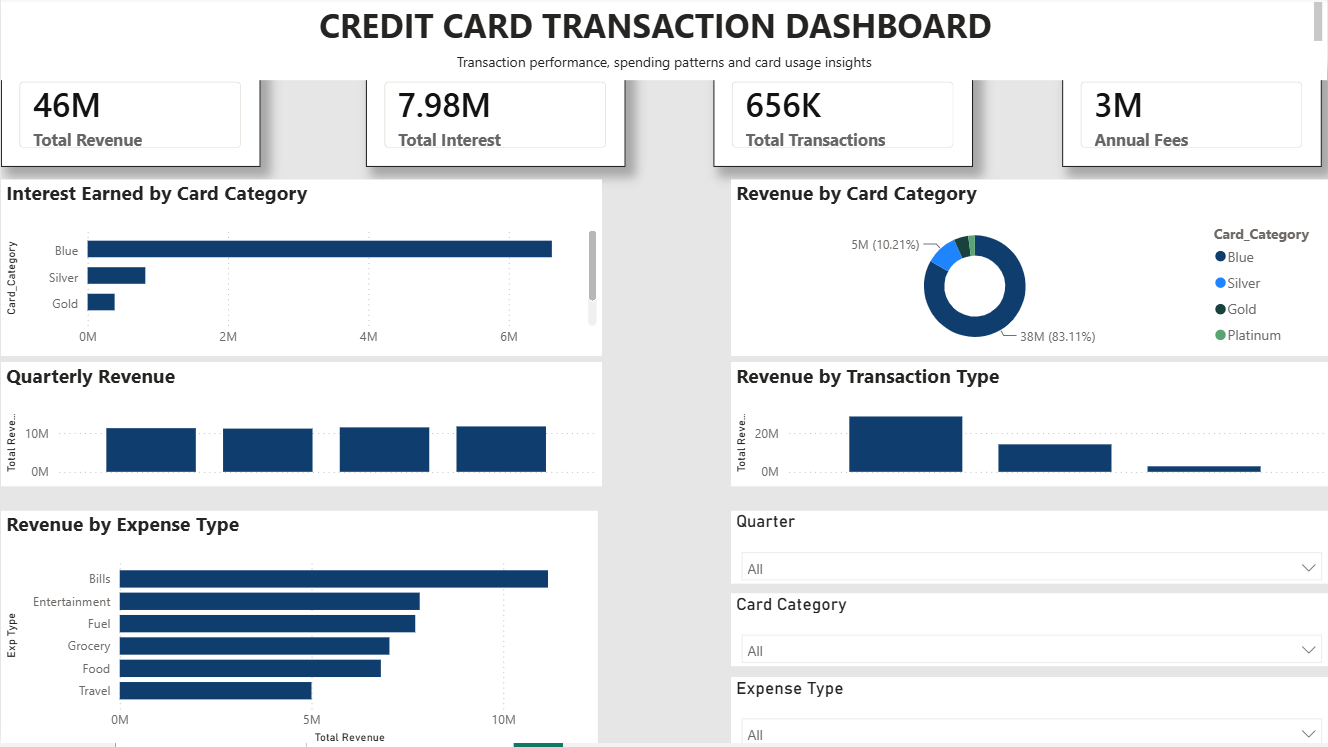

What the dashboard file says about the page in this screenshot:
{"tool":"powerbi","page":{"name":"Transaction Dashboard","canvas":[1280,720],"ordinal":1},"visuals":[{"type":"cardVisual","fields":{"Data":["Credit_Card_Final.Revenue"]},"box":[0,64,250,100],"z":0},{"type":"textbox","box":[0,0,1280,50],"z":1000},{"type":"cardVisual","fields":{"Data":["Credit_Card_Final.Interest"]},"box":[352,64,250,100],"z":2000},{"type":"cardVisual","fields":{"Data":["Credit_Card_Final.Transaction_Count"]},"box":[688,64,250,100],"z":3000},{"type":"cardVisual","fields":{"Data":["Sum(Credit_Card_Final.Annual_Fees)"]},"box":[1024,64,250,100],"z":4000},{"type":"clusteredBarChart","title":"Revenue by Expense Type","fields":{"Category":["Credit_Card_Final.Exp Type"],"Y":["Credit_Card_Final.Revenue"]},"box":[0,496,576,230],"z":5000},{"type":"donutChart","title":"Revenue by Card Category","fields":{"Category":["Credit_Card_Final.Card_Category"],"Y":["Credit_Card_Final.Revenue"]},"box":[704,176,580,170],"z":6000},{"type":"clusteredColumnChart","title":"Quarterly Revenue","fields":{"Y":["Credit_Card_Final.Revenue"],"Category":["Quarter_Table.Quarter"]},"box":[0,352,580,120],"z":7000},{"type":"clusteredColumnChart","title":"Revenue by Transaction Type","fields":{"Category":["Credit_Card_Final.Use Chip"],"Y":["Credit_Card_Final.Revenue"]},"box":[704,352,580,120],"z":8000},{"type":"clusteredBarChart","title":"Interest Earned by Card Category","fields":{"Y":["Credit_Card_Final.Interest"],"Category":["Credit_Card_Final.Card_Category"]},"box":[0,176,580,170],"z":9000},{"type":"slicer","title":"Quarter","fields":{"Values":["Credit_Card_Final.Qtr"]},"box":[704,496,580,70],"z":10000},{"type":"slicer","title":"Card Category","fields":{"Values":["Credit_Card_Final.Card_Category"]},"box":[704,576,580,70],"z":11000},{"type":"slicer","title":"Expense Type","fields":{"Values":["Credit_Card_Final.Exp Type"]},"box":[704,656,580,70],"z":12000},{"type":"textbox","box":[0,48,1280,32],"z":13000}]}

Visuals, with their boxes in screenshot pixels (x1, y1, x2, y2), scaled from the page's 1280x720 canvas onto the 1328x747 screenshot:
cardVisual - Credit_Card_Final.Revenue: 0 66 259 170
textbox: 0 0 1327 52
cardVisual - Credit_Card_Final.Interest: 365 66 625 170
cardVisual - Credit_Card_Final.Transaction_Count: 714 66 973 170
cardVisual - Sum(Credit_Card_Final.Annual_Fees): 1062 66 1322 170
"Revenue by Expense Type" clusteredBarChart: 0 515 598 746
"Revenue by Card Category" donutChart: 730 183 1327 359
"Quarterly Revenue" clusteredColumnChart: 0 365 602 490
"Revenue by Transaction Type" clusteredColumnChart: 730 365 1327 490
"Interest Earned by Card Category" clusteredBarChart: 0 183 602 359
"Quarter" slicer: 730 515 1327 587
"Card Category" slicer: 730 598 1327 670
"Expense Type" slicer: 730 681 1327 746
textbox: 0 50 1327 83
